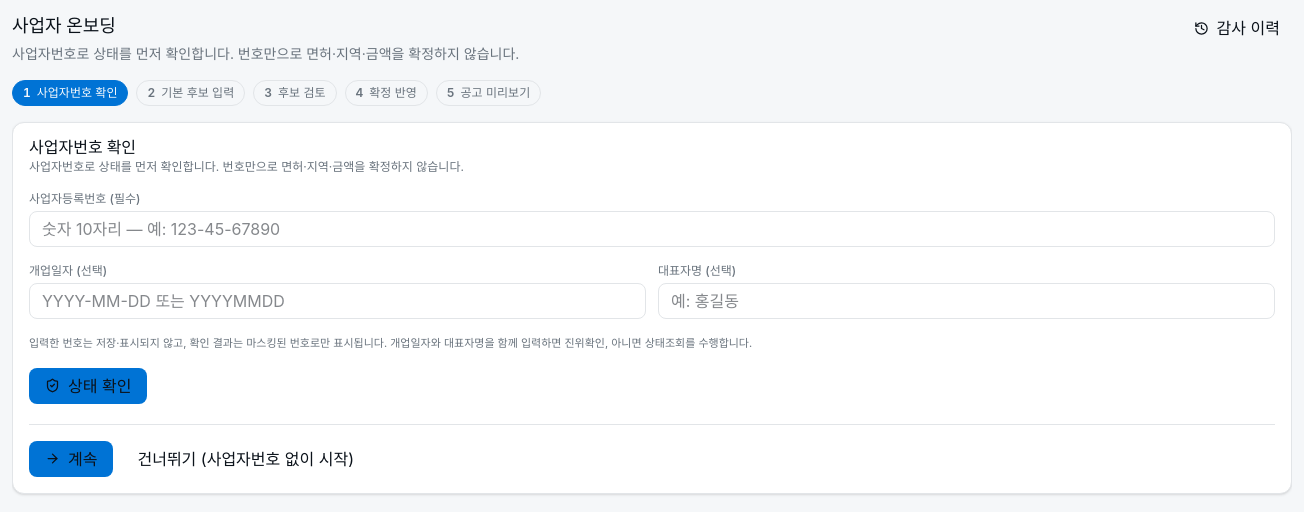
Test case: OnboardingWizard › 후보 조회 실패(GET 에러) 시 에러 메시지를 표시한다
Click the button "건너뛰기 (사업자번호 없이 시작)" at (246, 458), box [122,440,370,476]
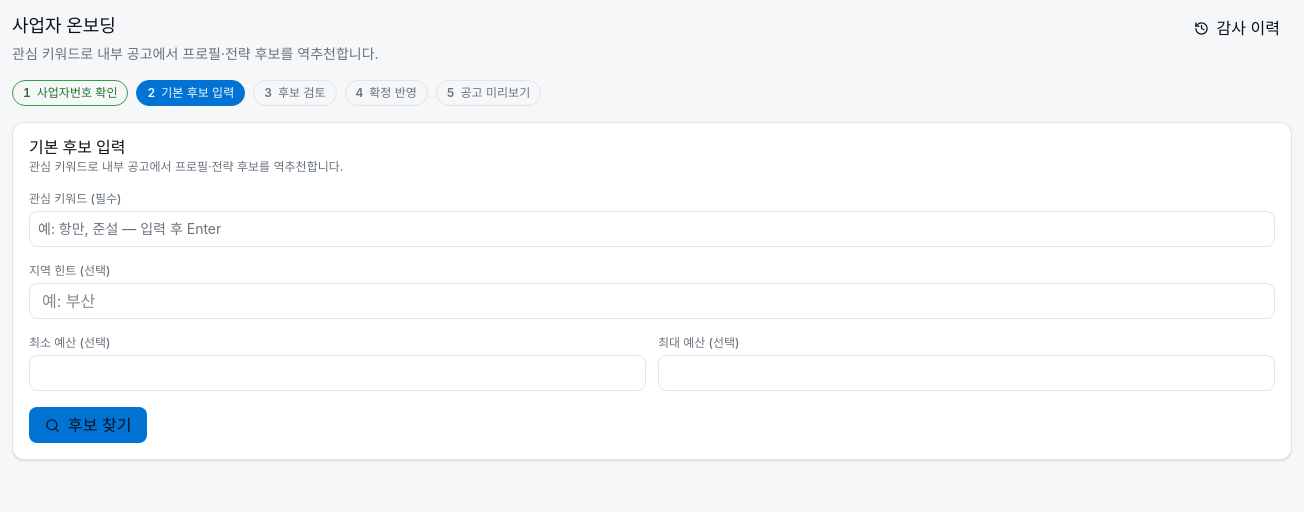
Type "항만" into the field labelled "관심 키워드 (필수)" at (652, 229), box [38,219,1266,239]
Then press Enter
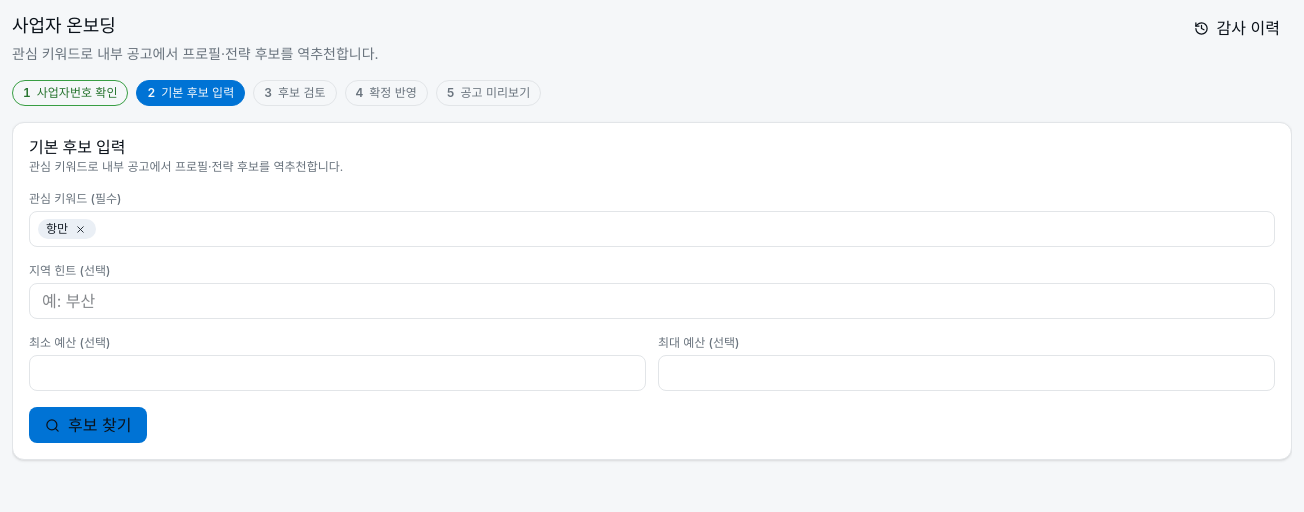
Click the button "후보 찾기" at (88, 425), box [29,407,147,443]
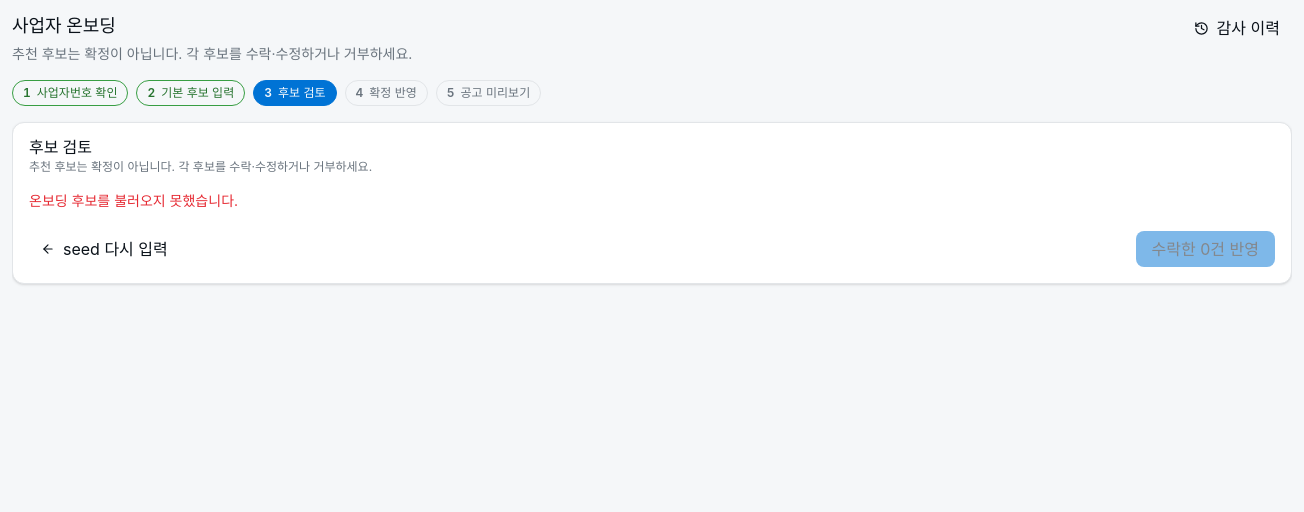
Now the message reads "온보딩 후보를 불러오지 못했습니다.", box [29,192,238,209]
